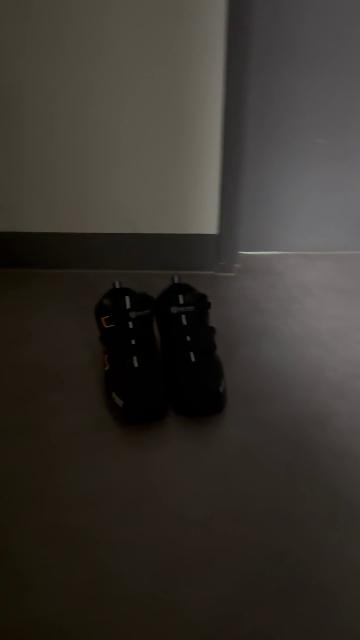shoe_worn: (90, 283, 171, 434), (152, 277, 227, 422)
